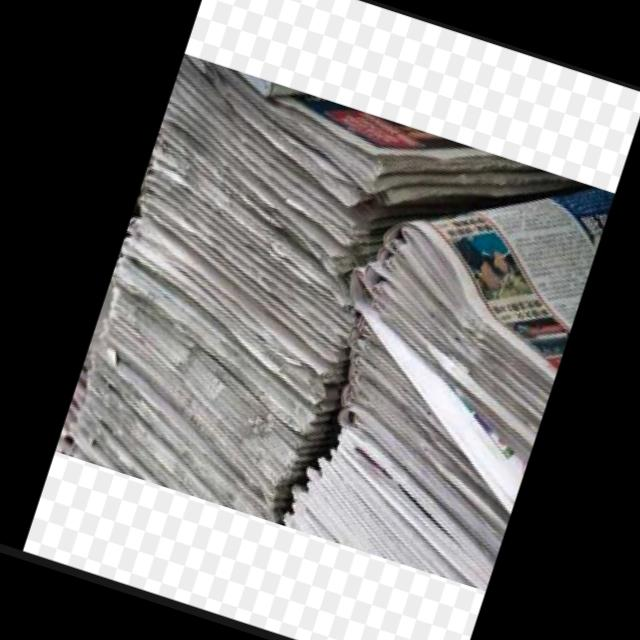Koran: (54, 51, 616, 592)
